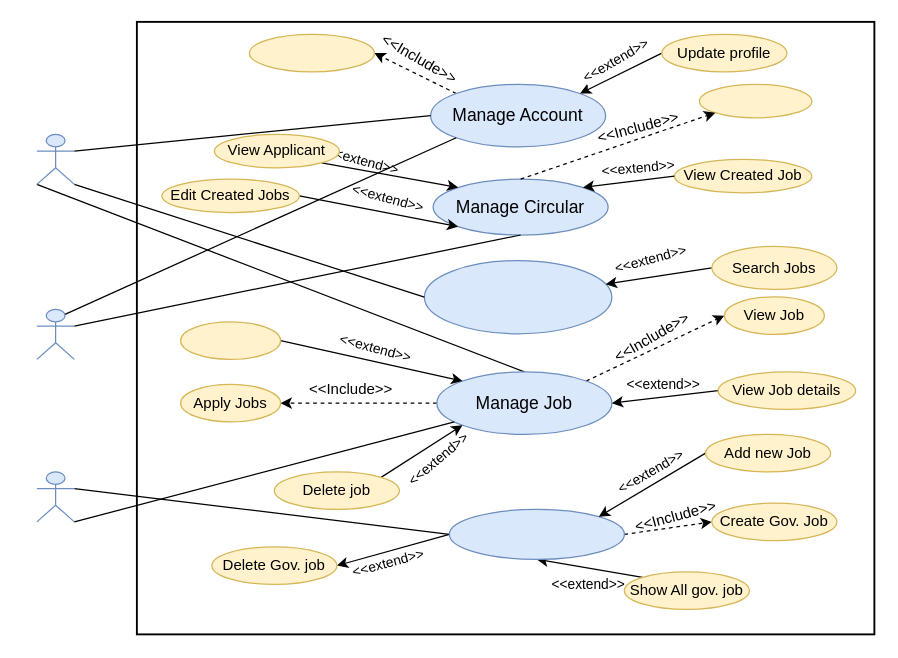
The diagram is 898 pixels wide and 658 high, and some of its shapes have lost their labels. The shapes that lost their labels are listed below. From the top down, each one's centre as x and y in pixels, then its label:
At (311,52): "Create Account".
At (755,100): "Create Jobs".
At (55,158): "Jobseeker".
At (517,296): "Location Track And Match job".
At (55,333): "Recruiter".
At (230,340): "Save Jobs".
At (55,496): "AO".
At (536,533): "Gov. Job".
